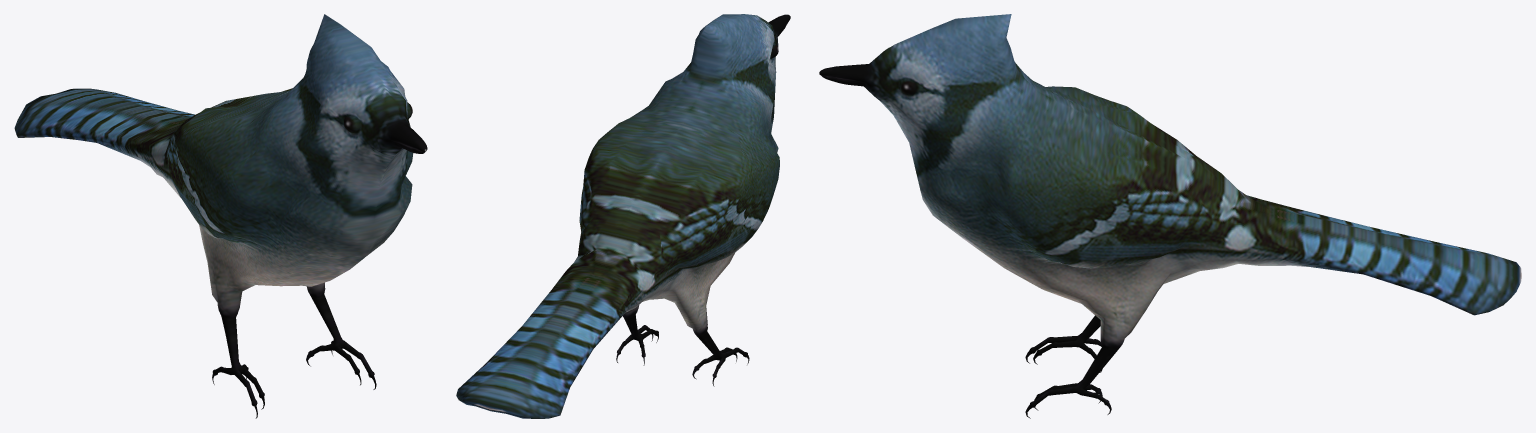
The model's file is Bluejay.fbx.
The picture shows the model from 3 angles, left to right: view 1: azimuth 30°, elevation 25°; view 2: azimuth 150°, elevation 25°; view 3: azimuth 270°, elevation 25°; orthographic projection. The views are drawn at different scales.
Visible parts, largest first — view 1: bluejay_Fi; view 2: bluejay_Fi; view 3: bluejay_Fi.
Boxes of the visible parts, x1,y1,x2,y2 form: bluejay_Fi: [14, 14, 427, 418]; bluejay_Fi: [456, 14, 790, 418]; bluejay_Fi: [819, 14, 1521, 418].
Size of the model in its own units: 14.22 by 27.89 by 47.01.
1 material, 1 textured.
